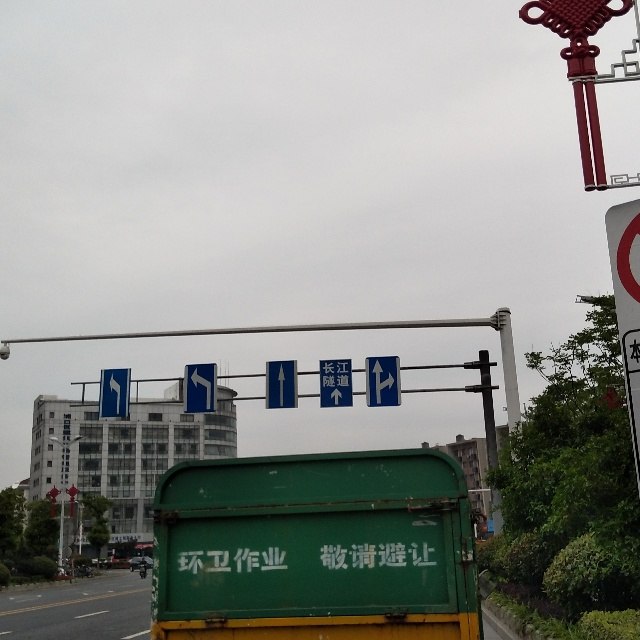left: (186, 366, 217, 414), (100, 369, 128, 419)
straight: (266, 362, 298, 410), (327, 382, 345, 407)
